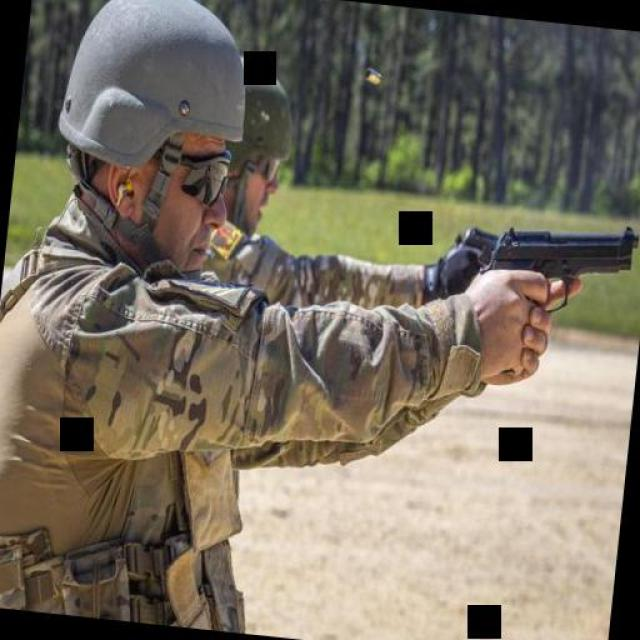gun: (472, 206, 640, 322), (452, 218, 502, 260)
